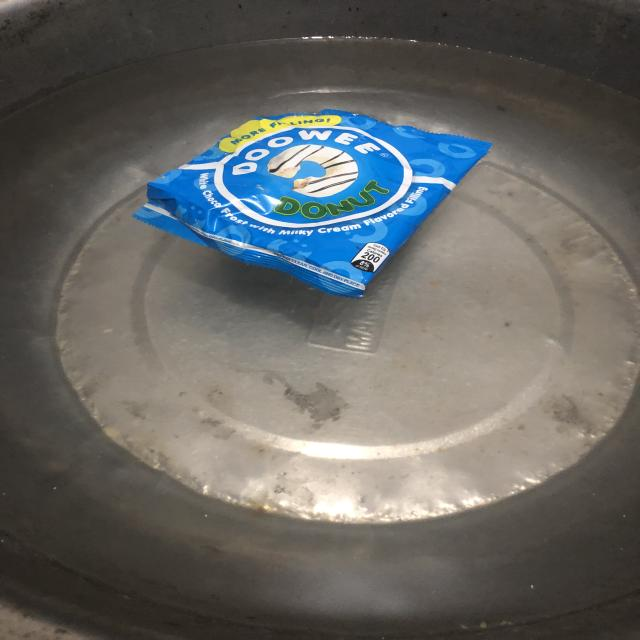Plastic Wrapper: (134, 110, 490, 297)
